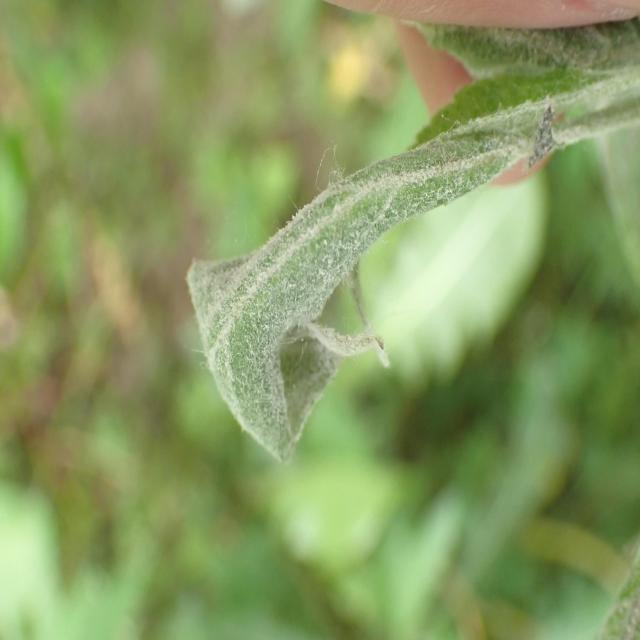Powdery_mildew: (176, 107, 548, 473)
